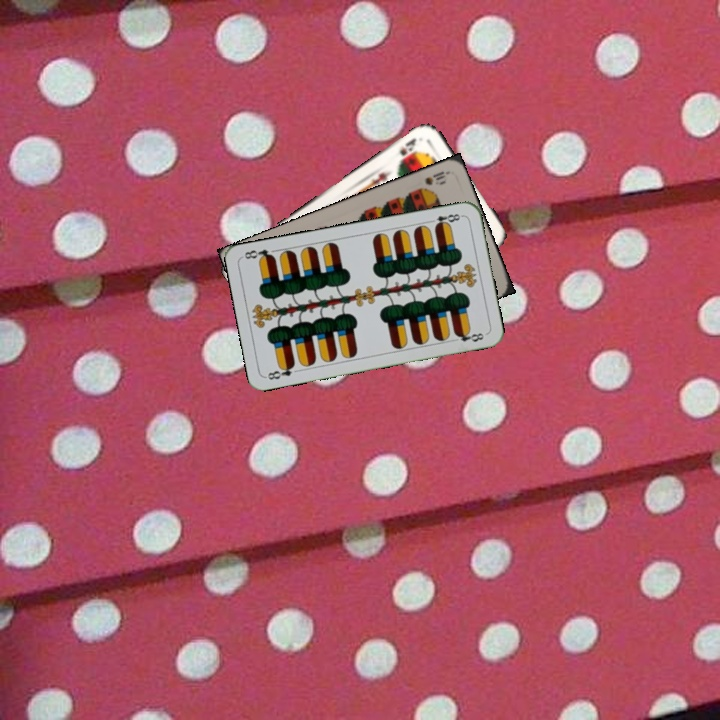E8: (425, 210, 465, 230), (262, 360, 297, 382)
S10: (421, 167, 450, 188)
SK: (395, 134, 419, 165)
